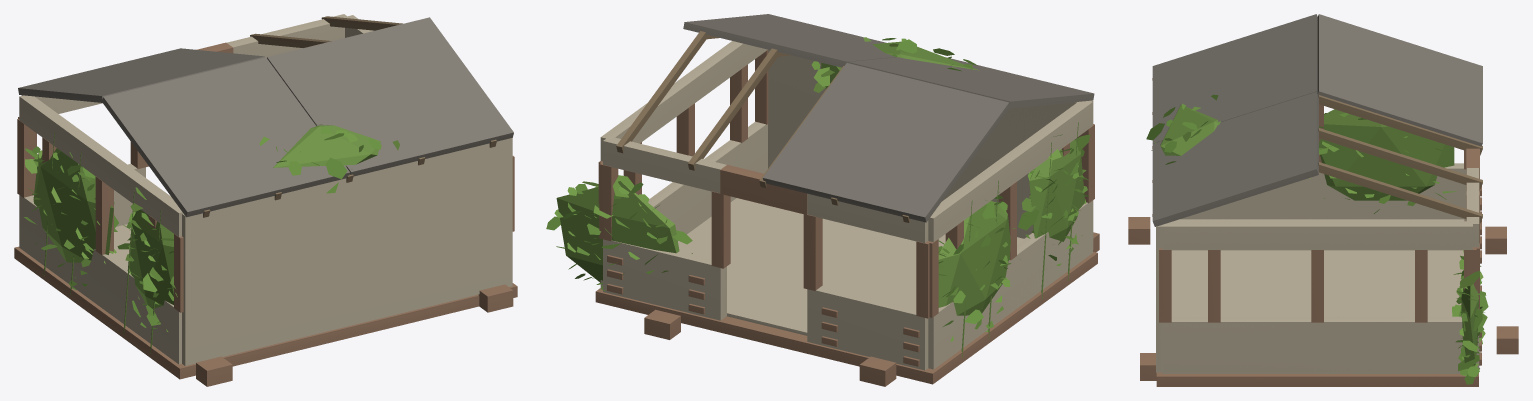
File: OvergrownHouse.fbx
3 views of the same model, side by side, from view 1: azimuth 30°, elevation 25°; view 2: azimuth 150°, elevation 25°; view 3: azimuth 270°, elevation 25° (orthographic). The views are drawn at different scales.
Visible parts, largest first — view 1: LOD0_EnvPlaster, LOD0_EnvRoof, LOD1_EnvRoof, LOD1_EnvPlaster, LOD2_EnvIvy, LOD0_EnvBrick, LOD1_EnvBrick, LOD0_EnvIvy, LOD1_EnvIvy, LOD0_EnvBark, LOD1_EnvBark; view 2: LOD1_EnvPlaster, LOD0_EnvPlaster, LOD0_EnvRoof, LOD1_EnvRoof, LOD0_EnvBrick, LOD2_EnvIvy, LOD1_EnvBrick, LOD0_EnvIvy, LOD1_EnvIvy, LOD0_EnvBark, LOD1_EnvBark; view 3: LOD0_EnvPlaster, LOD0_EnvRoof, LOD1_EnvPlaster, LOD1_EnvRoof, LOD0_EnvBrick, LOD2_EnvIvy, LOD1_EnvBrick, LOD0_EnvBark, LOD1_EnvBark, LOD1_EnvIvy, LOD0_EnvIvy.
Part boxes in pixels (x1=…): LOD0_EnvPlaster: x1=20, y1=15, x2=511, y2=364; LOD0_EnvRoof: x1=18, y1=18, x2=513, y2=216; LOD1_EnvRoof: x1=18, y1=17, x2=513, y2=217; LOD1_EnvPlaster: x1=19, y1=14, x2=512, y2=365; LOD2_EnvIvy: x1=33, y1=125, x2=380, y2=308; LOD0_EnvBrick: x1=15, y1=43, x2=514, y2=385; LOD1_EnvBrick: x1=14, y1=42, x2=517, y2=386; LOD0_EnvIvy: x1=28, y1=124, x2=397, y2=353; LOD1_EnvIvy: x1=24, y1=130, x2=399, y2=325; LOD0_EnvBark: x1=203, y1=16, x2=496, y2=217; LOD1_EnvBark: x1=203, y1=16, x2=496, y2=217; LOD1_EnvPlaster: x1=600, y1=41, x2=1093, y2=370; LOD0_EnvPlaster: x1=601, y1=41, x2=1092, y2=368; LOD0_EnvRoof: x1=684, y1=14, x2=1093, y2=221; LOD1_EnvRoof: x1=683, y1=14, x2=1094, y2=222; LOD0_EnvBrick: x1=596, y1=51, x2=1097, y2=385; LOD2_EnvIvy: x1=556, y1=41, x2=1084, y2=315; LOD1_EnvBrick: x1=595, y1=50, x2=1099, y2=386; LOD0_EnvIvy: x1=554, y1=38, x2=1092, y2=358; LOD1_EnvIvy: x1=546, y1=37, x2=1090, y2=341; LOD0_EnvBark: x1=616, y1=32, x2=909, y2=222; LOD1_EnvBark: x1=616, y1=31, x2=909, y2=222; LOD0_EnvPlaster: x1=1157, y1=164, x2=1478, y2=372; LOD0_EnvRoof: x1=1153, y1=14, x2=1482, y2=226; LOD1_EnvPlaster: x1=1156, y1=163, x2=1479, y2=373; LOD1_EnvRoof: x1=1152, y1=14, x2=1482, y2=226; LOD0_EnvBrick: x1=1129, y1=104, x2=1517, y2=385; LOD2_EnvIvy: x1=1160, y1=104, x2=1478, y2=368; LOD1_EnvBrick: x1=1128, y1=105, x2=1518, y2=386; LOD0_EnvBark: x1=1318, y1=96, x2=1482, y2=223; LOD1_EnvBark: x1=1152, y1=78, x2=1482, y2=223; LOD1_EnvIvy: x1=1146, y1=94, x2=1488, y2=371; LOD0_EnvIvy: x1=1153, y1=107, x2=1484, y2=384.
Size of the model in its own units: 784 by 413 by 678.
